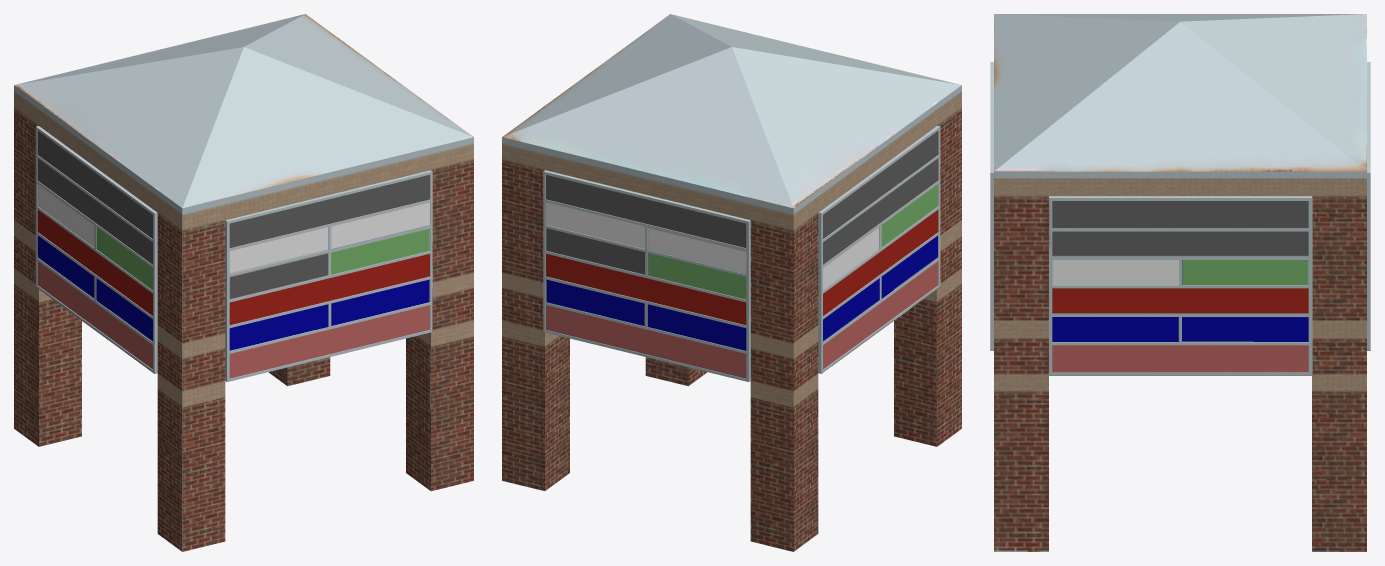
File: Rougemount Centre Plaza Sign.fbx
The picture shows the model from 3 angles, left to right: view 1: azimuth 30°, elevation 25°; view 2: azimuth 150°, elevation 25°; view 3: azimuth 270°, elevation 25°; orthographic projection. The views are drawn at different scales.
Visible parts, largest first — view 1: Rougemount_Centre_Plaza_Sign_LOD0; view 2: Rougemount_Centre_Plaza_Sign_LOD0; view 3: Rougemount_Centre_Plaza_Sign_LOD0.
Part boxes in pixels (<box>): Rougemount_Centre_Plaza_Sign_LOD0: <box>14,14,473,551</box>; Rougemount_Centre_Plaza_Sign_LOD0: <box>502,14,961,551</box>; Rougemount_Centre_Plaza_Sign_LOD0: <box>990,14,1370,551</box>.
Size of what is drawn, in the model's own units: 485 by 635 by 485.
1 material, 1 textured.
